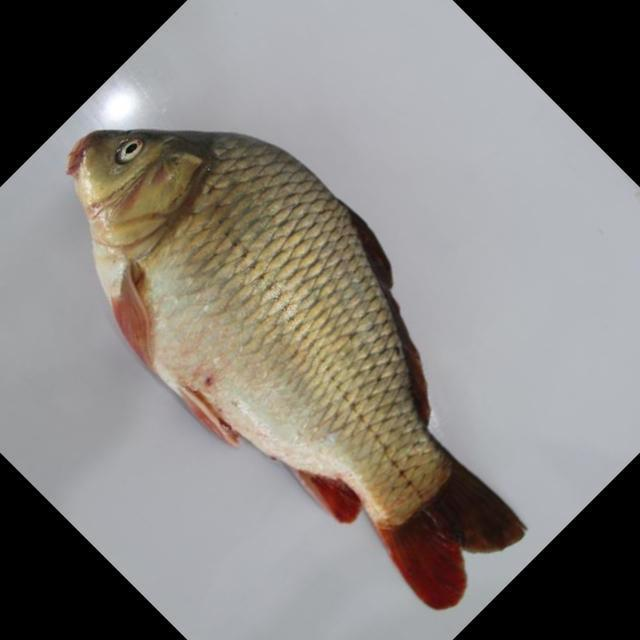CommonCarp: (67, 122, 546, 613)
